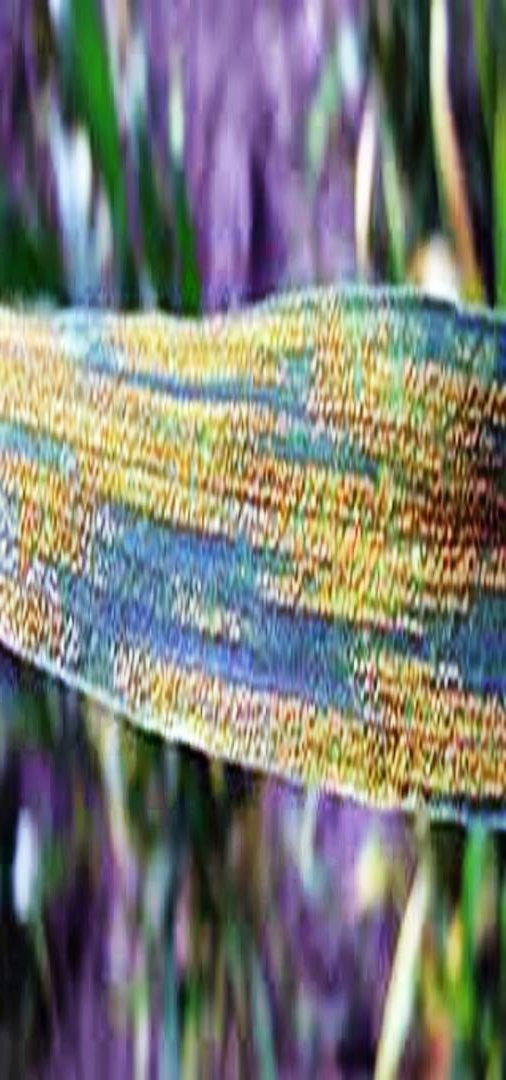Leaf Rust: (23, 324, 506, 821)
